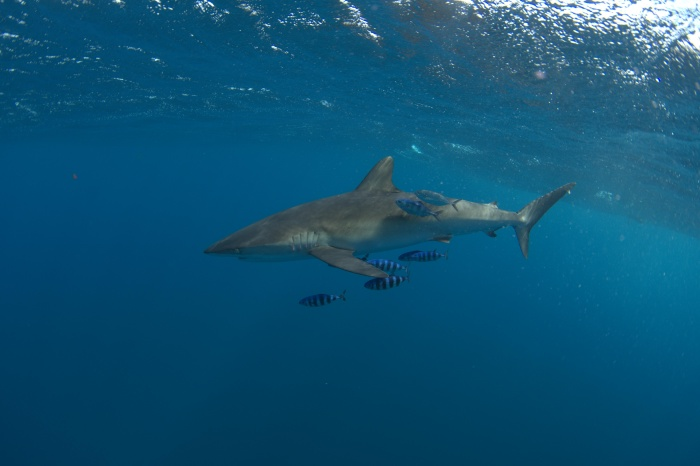Sedoso: (195, 150, 593, 292)
